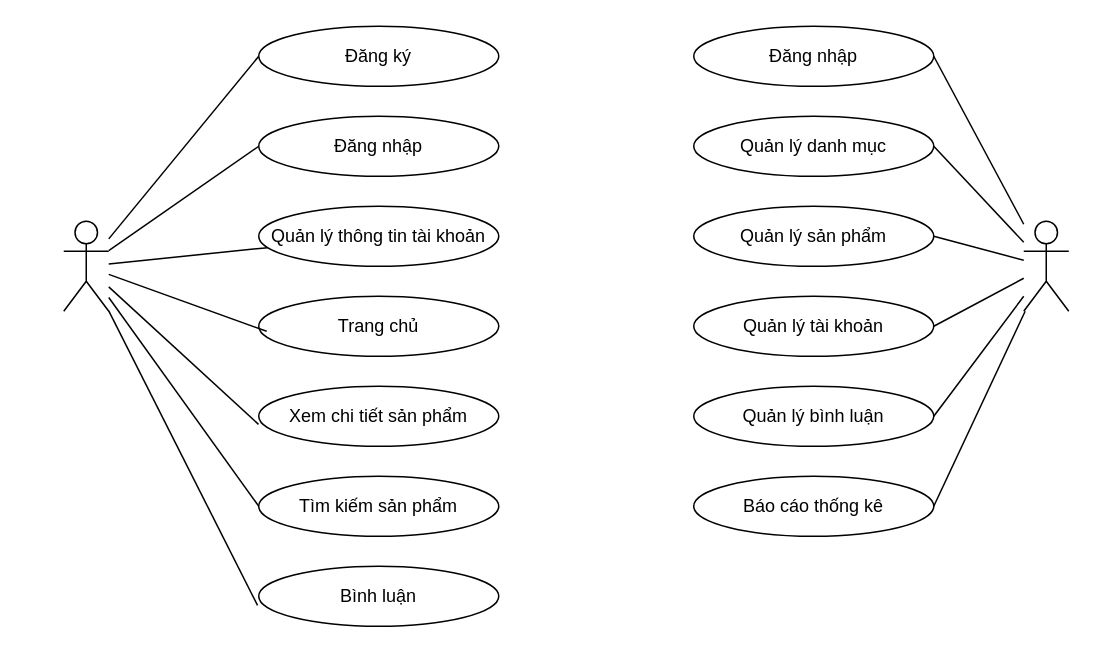
The diagram is 1101 pixels wide and 653 high, and some of its shapes have lost their labels. Here are the shapes that lost their labels. From the top down, the centre of each, then its label:
point (85, 265): KHÁCH HÀNG
point (1045, 265): ADMIN
